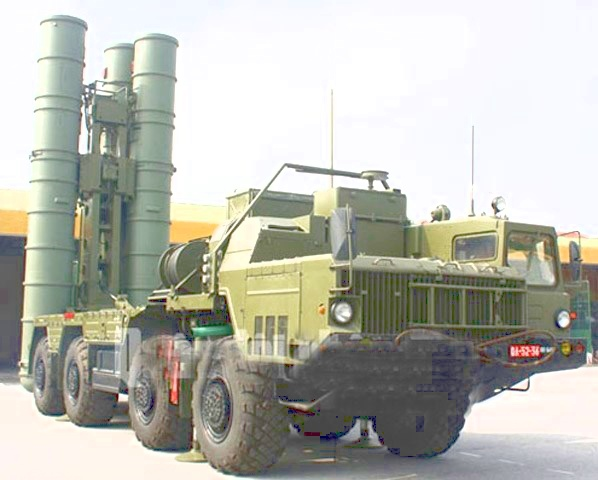plate: (508, 343, 546, 360)
